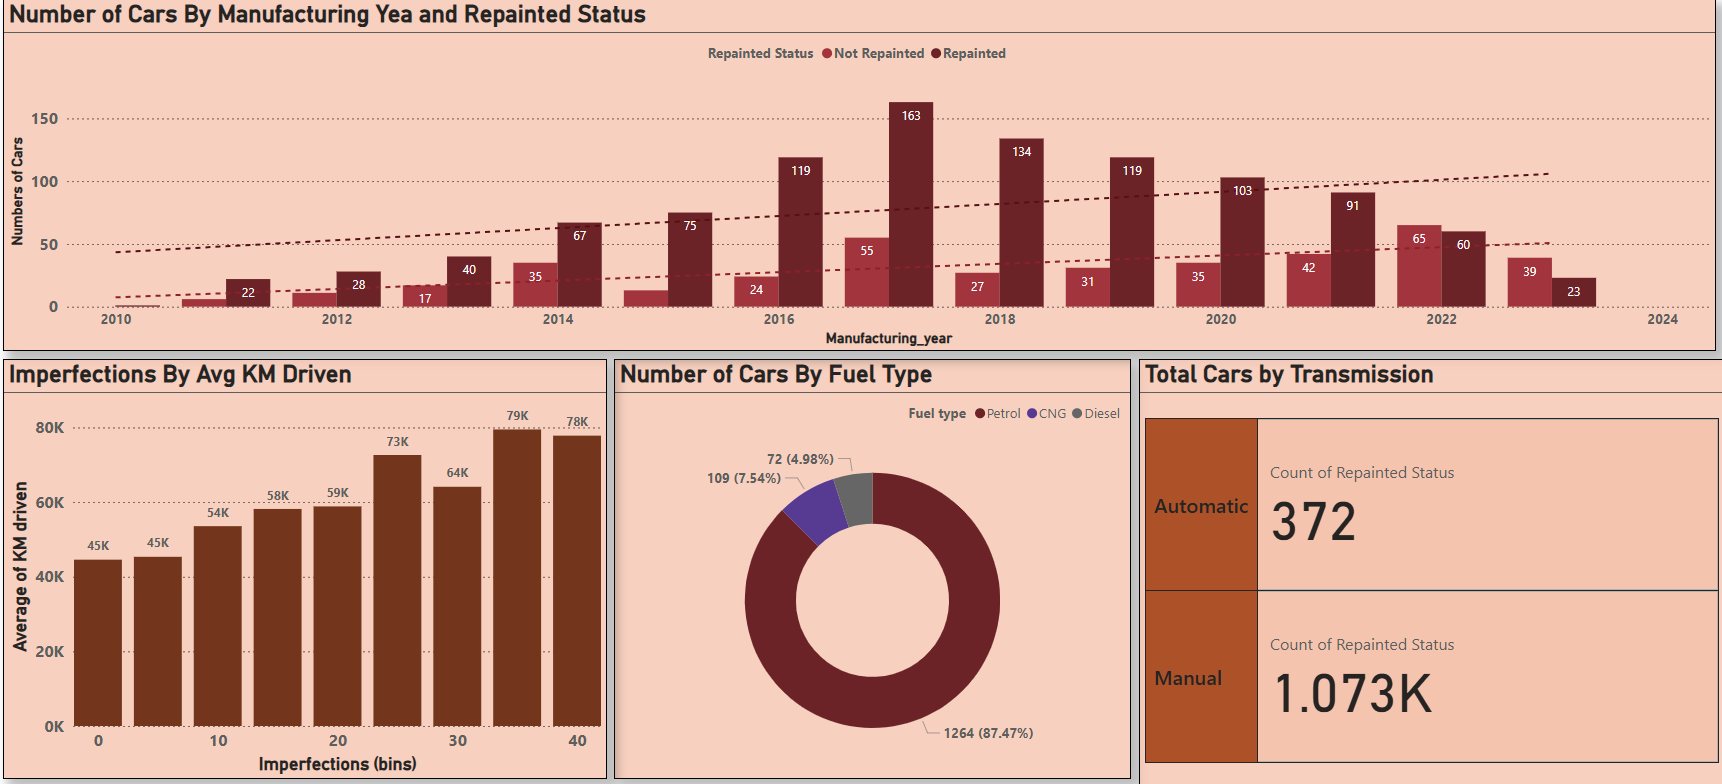

The dashboard page shown, as its layout file describes it:
{"tool":"powerbi","page":{"name":"Age & Usage","canvas":[1730,790],"ordinal":2},"visuals":[{"type":"donutChart","title":"Number of Cars By Fuel Type","fields":{"Category":["cars24data.Fuel type"],"Y":["CountNonNull(cars24data.Model Name)"]},"box":[619,360,517,420],"z":1000},{"type":"clusteredColumnChart","title":"Number of Cars By Manufacturing Yea and Repainted Status","fields":{"Series":["cars24data.Repainted Status"],"Category":["cars24data.Manufacturing_year"],"Y":["CountNonNull(cars24data.Model Name)"]},"box":[8,0,1713,352],"z":2000},{"type":"clusteredColumnChart","title":"Imperfections By Avg KM Driven","fields":{"Y":["Avg(cars24data.KM driven)"],"Category":["cars24data.Imperfections (bins)"]},"box":[8,360,604,420],"z":3000},{"type":"cardVisual","title":"Total Cars by Transmission","fields":{"Rows":["cars24data.Transmission"],"Data":["CountNonNull(cars24data.Repainted Status)"]},"box":[1144,360,586,430],"z":4000}]}

Visuals, with their boxes in screenshot pixels (x1, y1, x2, y2), scaled from the page's 1730x790 canvas onto the 1722x784 screenshot:
"Number of Cars By Fuel Type" donutChart: x1=616 y1=357 x2=1131 y2=774
"Number of Cars By Manufacturing Yea and Repainted Status" clusteredColumnChart: x1=8 y1=0 x2=1713 y2=349
"Imperfections By Avg KM Driven" clusteredColumnChart: x1=8 y1=357 x2=609 y2=774
"Total Cars by Transmission" cardVisual: x1=1139 y1=357 x2=1721 y2=783
